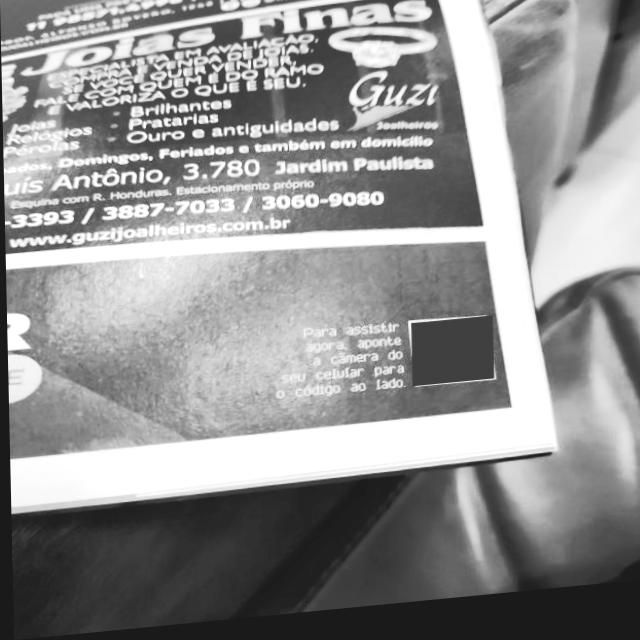qr_code: (409, 325, 492, 394)
